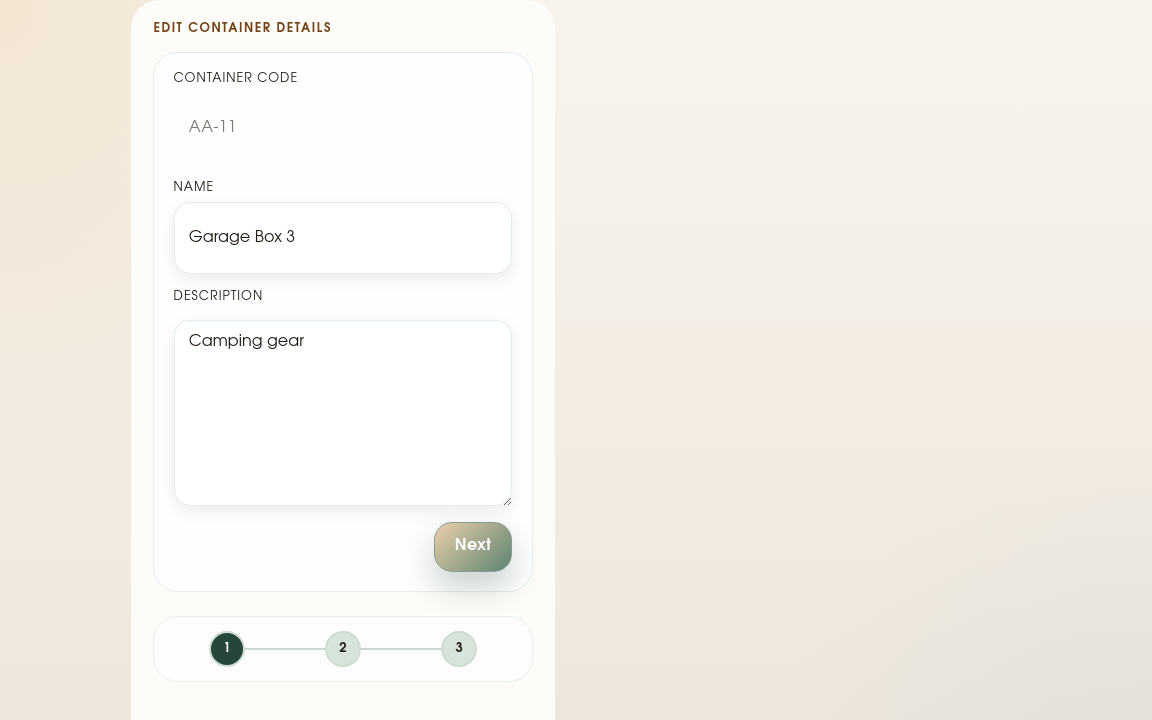
it: container detail route › shows save failures in the inline error banner
Click the button "Next".
click(473, 547)  # box [434,522,512,572]
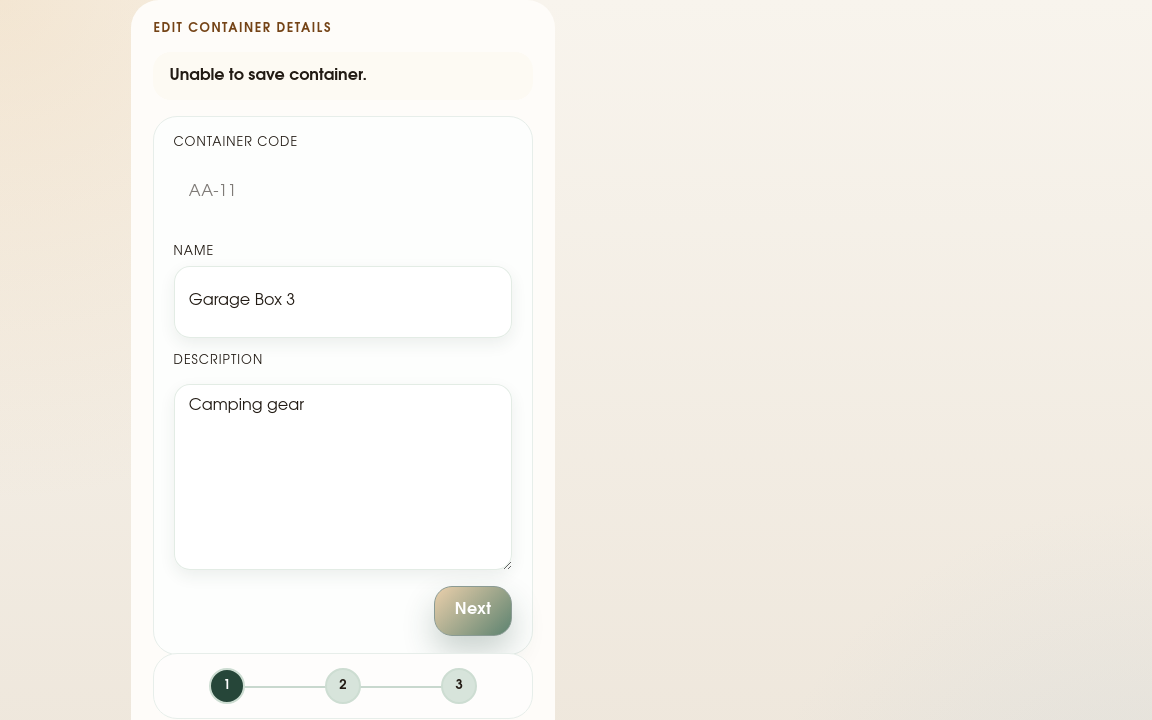
Expected: the field labelled "Name" is shown, [174,266,512,338]
Expected: the message reads "Unable to save container.", [169,68,367,84]
